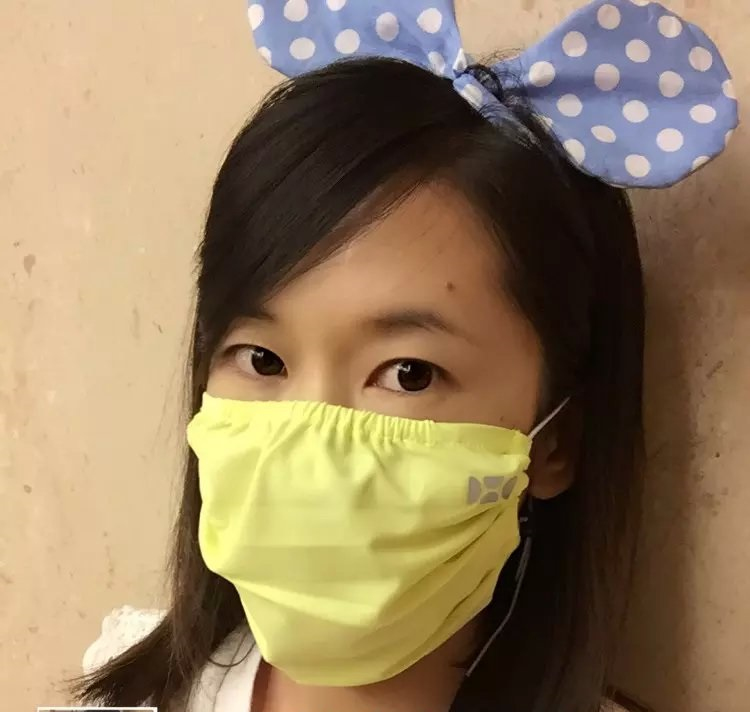face_mask: (193, 179, 530, 625)
